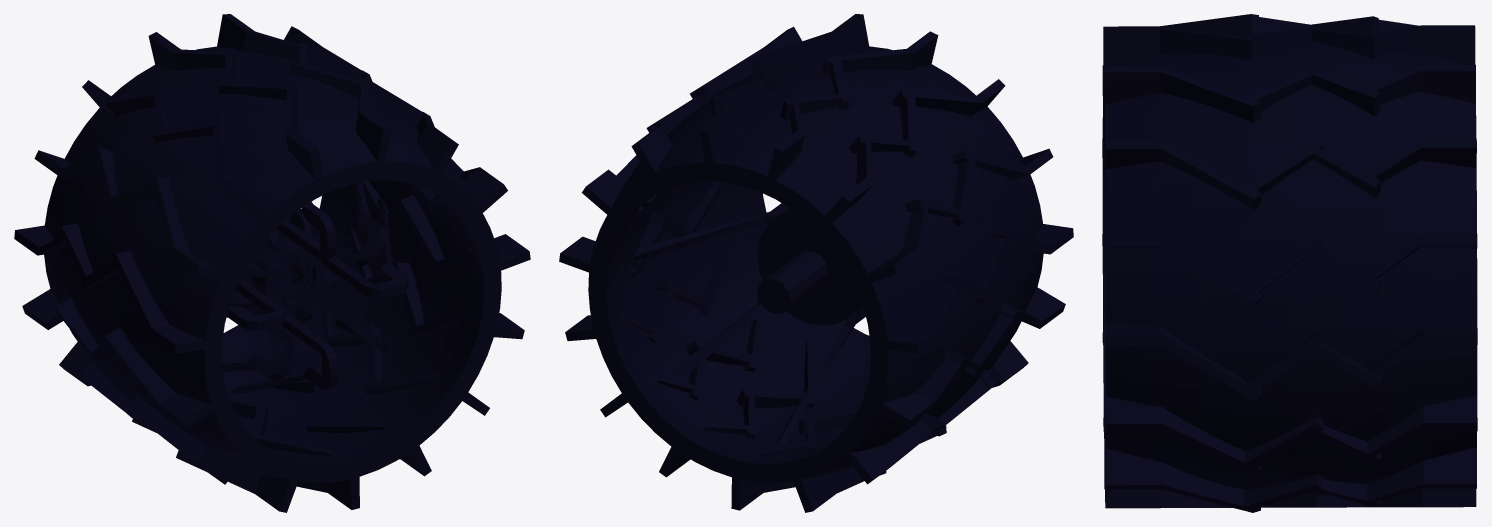
Rendered from Mars6Mars_Rover__Curiosity_1_0__-_1__Rover_Wheel_right_1.001.dae.
The picture shows the model from 3 angles, left to right: view 1: azimuth 30°, elevation 25°; view 2: azimuth 150°, elevation 25°; view 3: azimuth 270°, elevation 25°; orthographic projection. The views are drawn at different scales.
Parts seen in each view (by area): view 1: tmp_export_Mars6Mars_Rover__Curiosity_1_0__-_1__Rover_Wheel_; view 2: tmp_export_Mars6Mars_Rover__Curiosity_1_0__-_1__Rover_Wheel_; view 3: tmp_export_Mars6Mars_Rover__Curiosity_1_0__-_1__Rover_Wheel_.
Boxes of the visible parts, box(x1,y1,x2,y2) form: tmp_export_Mars6Mars_Rover__Curiosity_1_0__-_1__Rover_Wheel_: box(14, 14, 530, 512); tmp_export_Mars6Mars_Rover__Curiosity_1_0__-_1__Rover_Wheel_: box(559, 14, 1073, 512); tmp_export_Mars6Mars_Rover__Curiosity_1_0__-_1__Rover_Wheel_: box(1102, 14, 1477, 512).
Bounding box in the file's own units: 0.1558 × 0.1171 × 0.1555.
